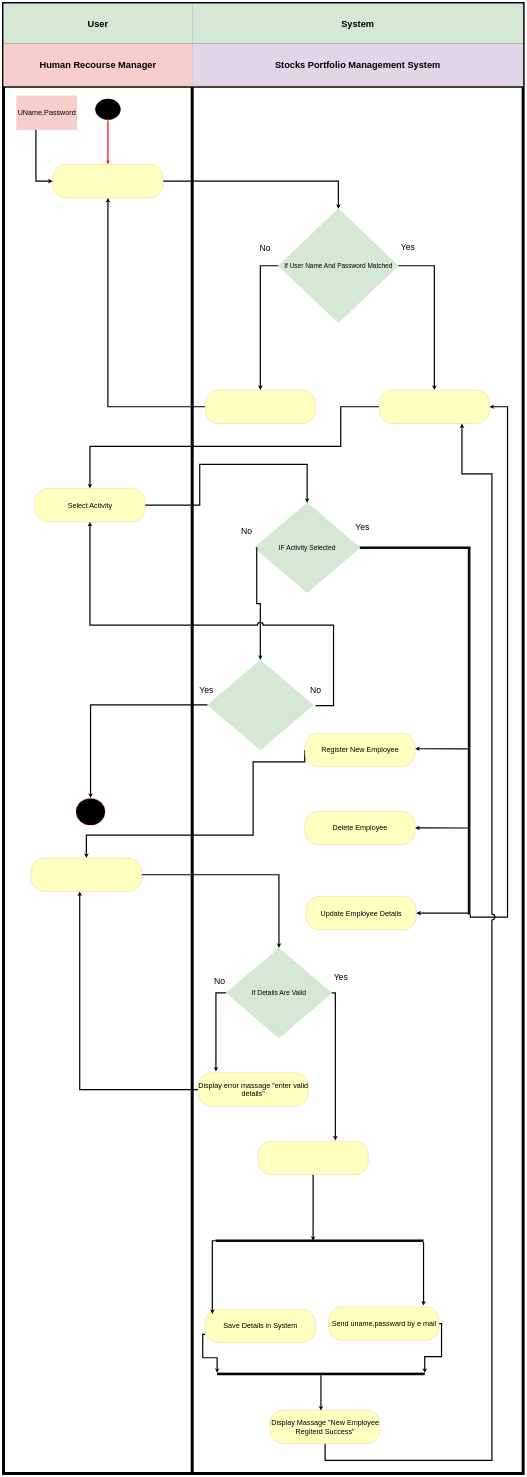
The diagram is 527 pixels wide and 1477 high, and some of its shapes have lost their labels. Each missing label, with the centre of its shape:
Display Error Massage "Login Again": pixel 260 407
Display HRM Activites: pixel 434 407
Enter Employee Details: pixel 86 875
Genarate username and password: pixel 313 1158
if HRM log out System: pixel 260 705
Login System: pixel 108 181
